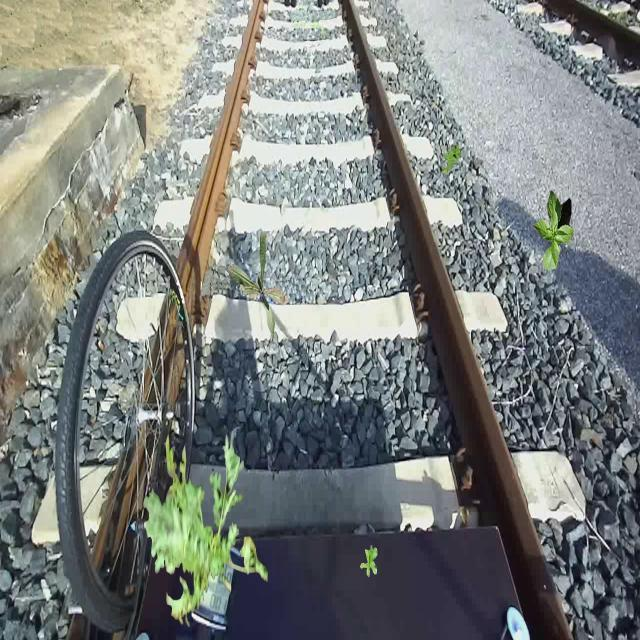Plant: (143, 432, 268, 628), (227, 231, 291, 343), (532, 190, 574, 270), (442, 143, 462, 176), (360, 545, 378, 577)
